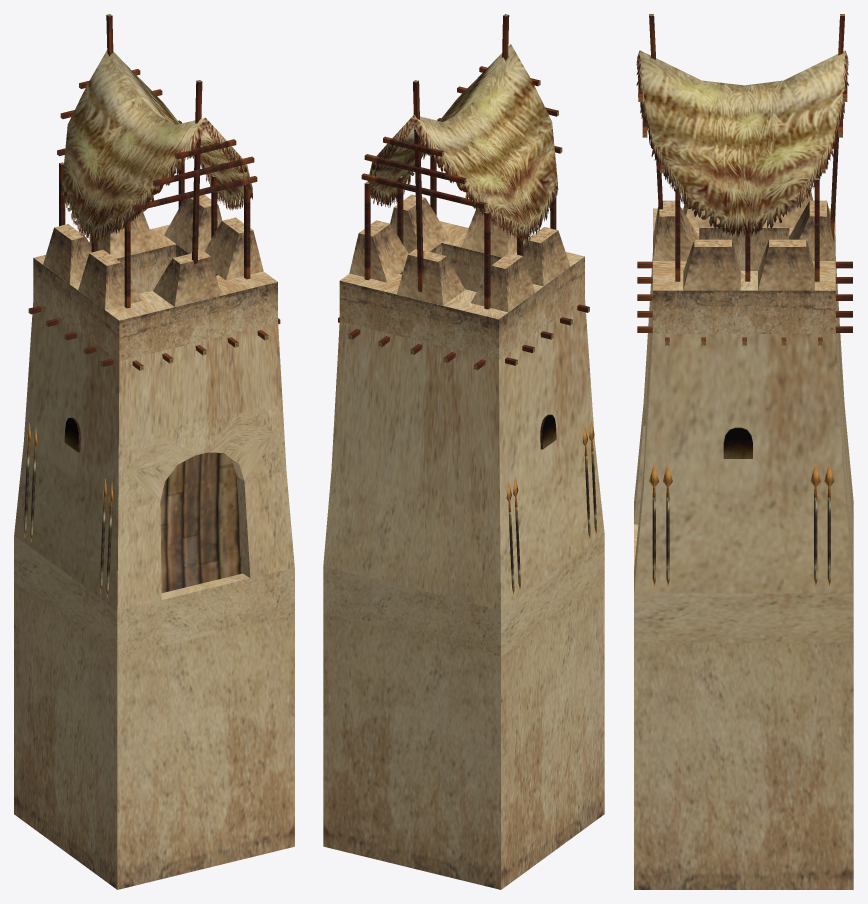
Rendered from stone_tower.dae.
3 renders of one model, left to right at view 1: azimuth 30°, elevation 25°; view 2: azimuth 150°, elevation 25°; view 3: azimuth 270°, elevation 25°, orthographic. The views are drawn at different scales.
Parts seen in each view (by area): view 1: stone_tower; view 2: stone_tower; view 3: stone_tower.
Part boxes in pixels (box(x1,y1,x2,y2)): stone_tower: box(14, 14, 294, 889); stone_tower: box(323, 14, 604, 889); stone_tower: box(634, 14, 853, 889).
Bounding box in the file's own units: 8.42 × 8.35 × 34.7.
